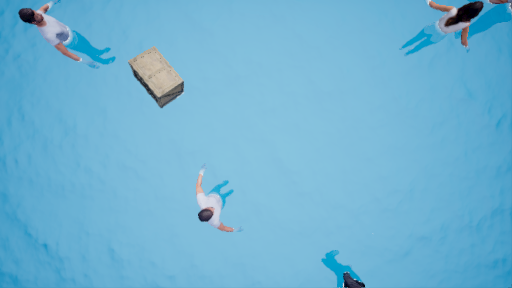person: (19, 3, 112, 68), (410, 1, 479, 61), (196, 161, 241, 229)
